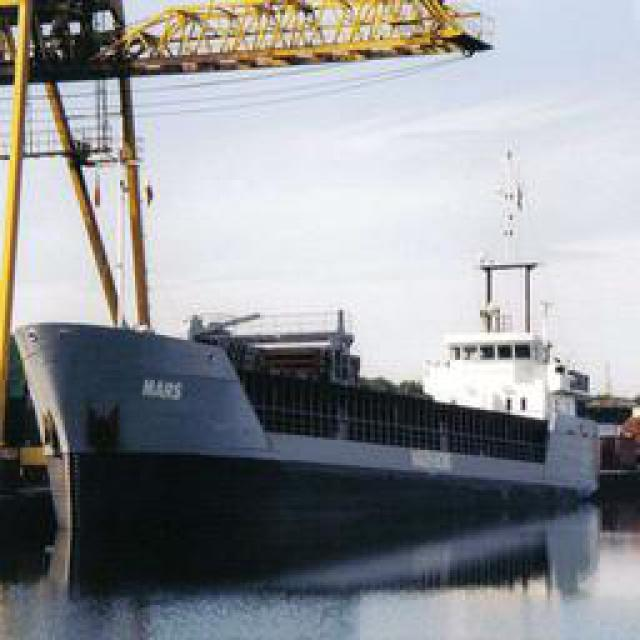Ship: (1, 60, 609, 593)
